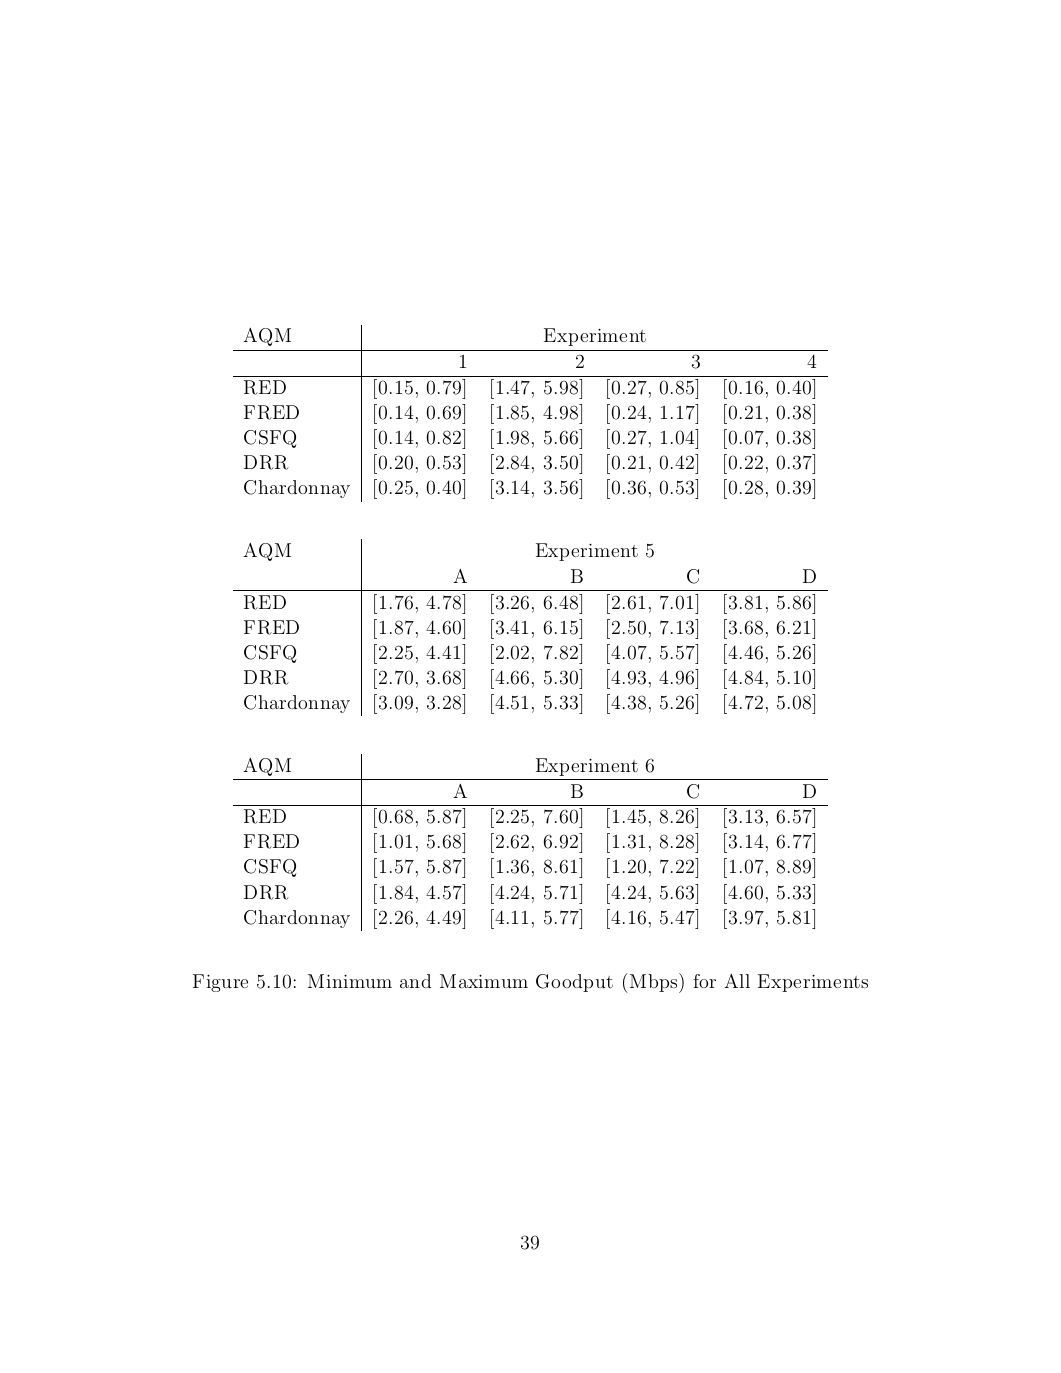Table: (233, 324, 827, 502), (233, 538, 827, 715), (233, 753, 827, 931)
